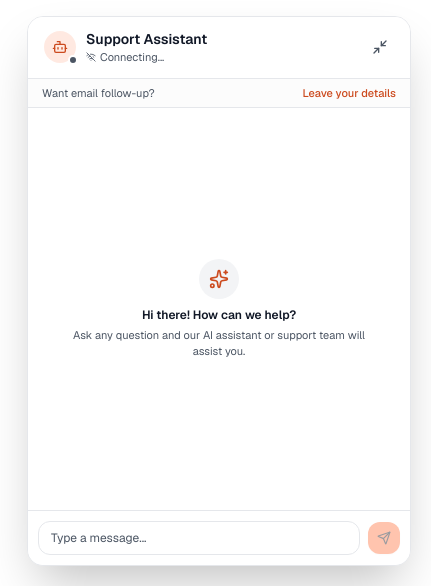
Scenario: CustomerChatWidget Component (CP6) › allows customer to submit a message and reconciles reply
The image size is (431, 586).
Type "Can you help me with billing?" into the field with placeholder "Type a message..." at (199, 538), box [38, 521, 360, 555]
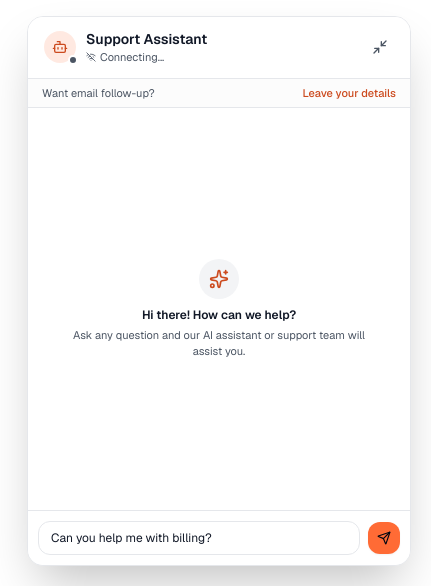
Click the button named "Send message" at (384, 538), box [368, 522, 400, 554]
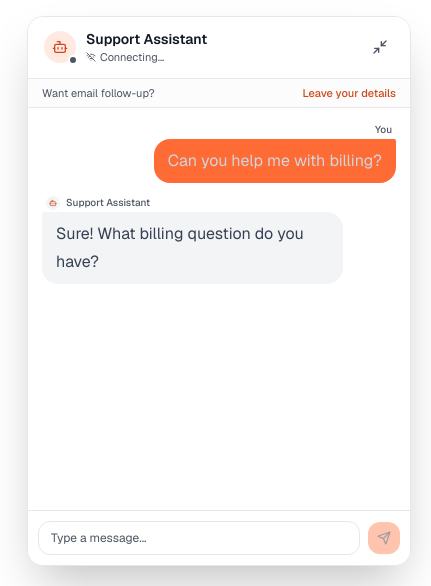
Expected: the text "Can you help me with billing?" is shown, [168, 147, 382, 175]
Expected: the text "Sure! What billing question do you have?" is shown, [56, 220, 329, 276]
